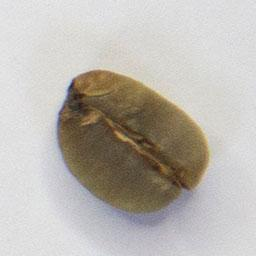defect: (52, 67, 213, 218)
